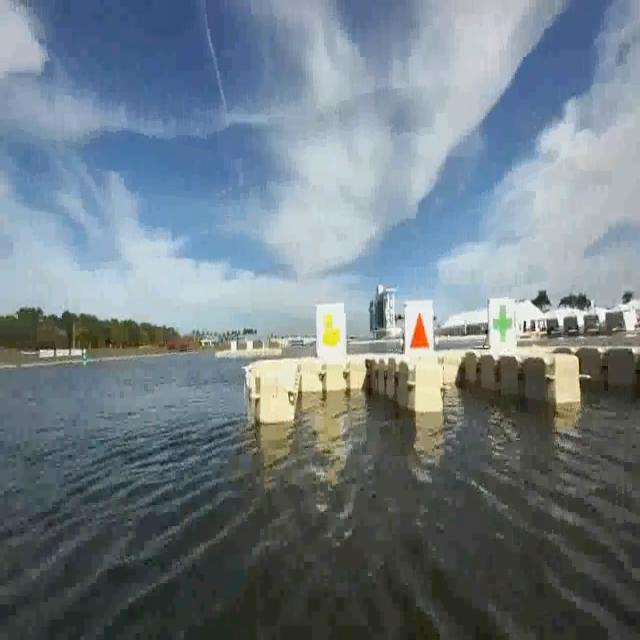blue-cross: (488, 290, 515, 355)
red-dot: (406, 299, 432, 354)
yellow-duck: (320, 309, 340, 348)
